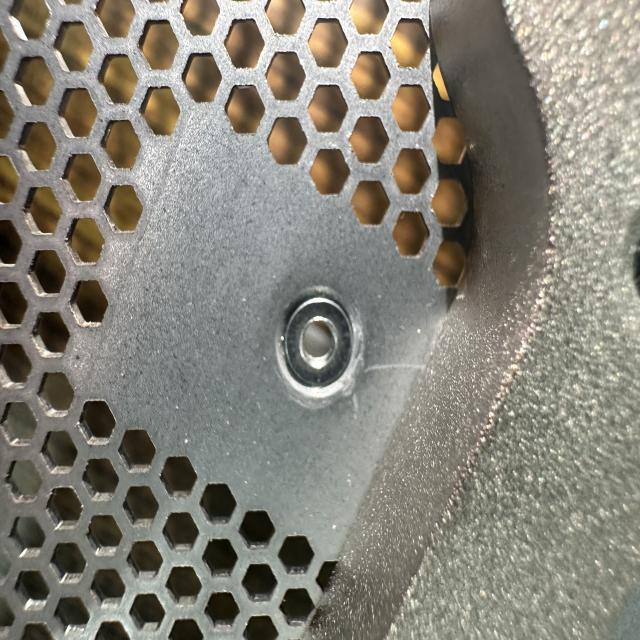Missing screw: (264, 278, 372, 410)
